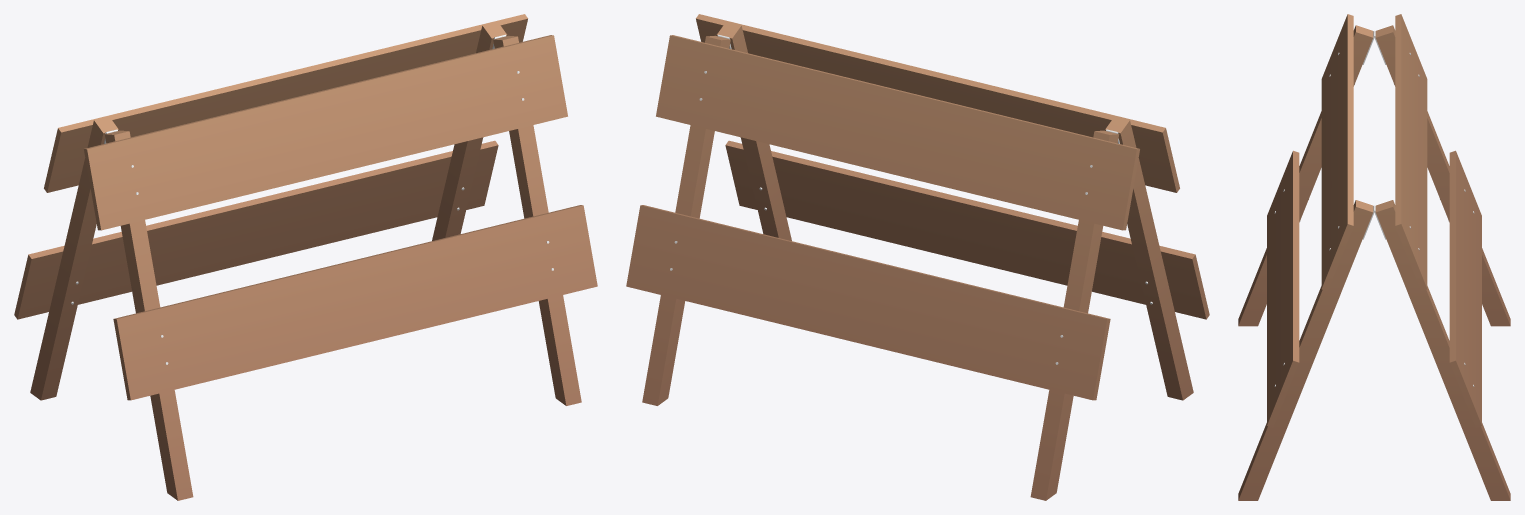
Rendered from simple_barricade_01_wood_large.glb.
The picture shows the model from 3 angles, left to right: view 1: azimuth 30°, elevation 25°; view 2: azimuth 150°, elevation 25°; view 3: azimuth 270°, elevation 25°; orthographic projection. The views are drawn at different scales.
Visible parts, largest first — view 1: simple_barricade_01_wood_large; view 2: simple_barricade_01_wood_large; view 3: simple_barricade_01_wood_large.
Part boxes in pixels (bbox=[...]): simple_barricade_01_wood_large: bbox=[14, 14, 597, 500]; simple_barricade_01_wood_large: bbox=[626, 14, 1209, 500]; simple_barricade_01_wood_large: bbox=[1238, 14, 1510, 500].
Bounding box in the file's own units: 1.51 × 0.9894 × 0.8304.
Materials: 1 (1 with a texture image).
